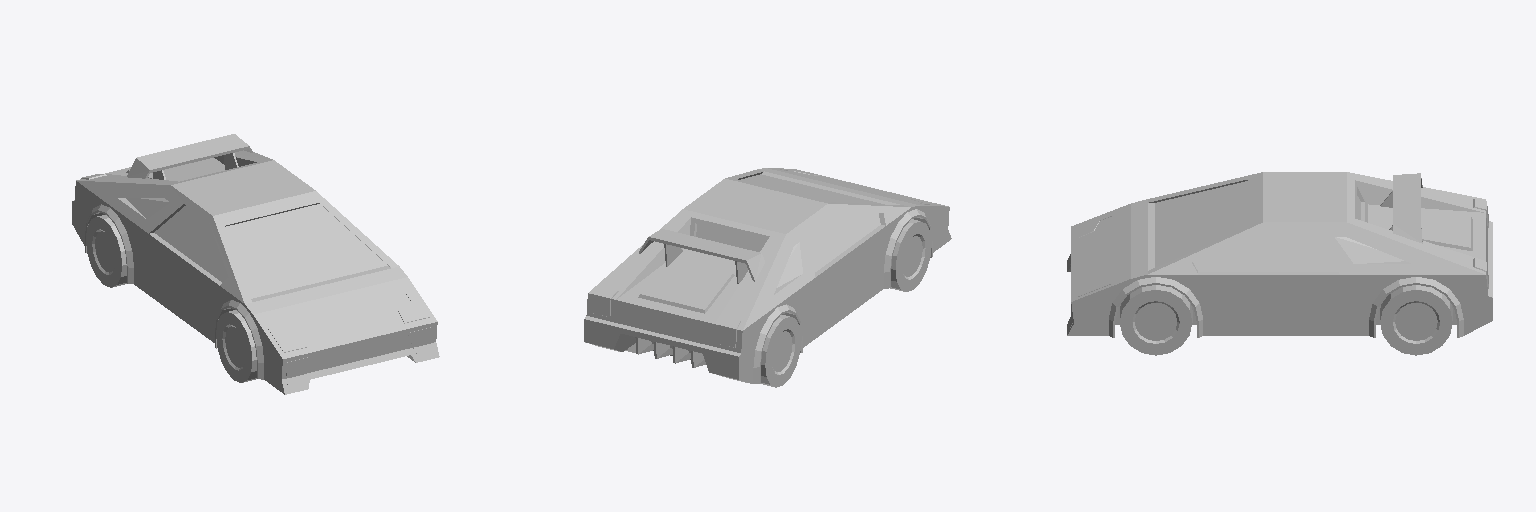
The model's file is car_sports_gt.obj.
3 renders of one model, left to right at view 1: azimuth 30°, elevation 25°; view 2: azimuth 150°, elevation 25°; view 3: azimuth 270°, elevation 25°, orthographic.
Visible parts, largest first — view 1: g car-lamba-sport-white_Cube.915_white, g car-lamba-sport-white_Cube.915_windows, g car-lamba-sport-white_Cube.915_tires, g car-lamba-sport-white_Cube.915_metal, g car-lamba-sport-white_Cube.915_lights, g car-lamba-sport-white_Cube.915_metal.black; view 2: g car-lamba-sport-white_Cube.915_white, g car-lamba-sport-white_Cube.915_windows, g car-lamba-sport-white_Cube.915_metal.black, g car-lamba-sport-white_Cube.915_tires, g car-lamba-sport-white_Cube.915_metal, g car-lamba-sport-white_Cube.915_lights.red; view 3: g car-lamba-sport-white_Cube.915_white, g car-lamba-sport-white_Cube.915_windows, g car-lamba-sport-white_Cube.915_tires, g car-lamba-sport-white_Cube.915_metal, g car-lamba-sport-white_Cube.915_metal.black.
Part boxes in pixels (x1,y1,x2,y2): g car-lamba-sport-white_Cube.915_white: (72, 134, 439, 394); g car-lamba-sport-white_Cube.915_windows: (154, 204, 387, 298); g car-lamba-sport-white_Cube.915_tires: (86, 215, 256, 382); g car-lamba-sport-white_Cube.915_metal: (95, 231, 433, 387); g car-lamba-sport-white_Cube.915_lights: (271, 293, 425, 351); g car-lamba-sport-white_Cube.915_metal.black: (126, 161, 415, 362); g car-lamba-sport-white_Cube.915_white: (584, 168, 951, 383); g car-lamba-sport-white_Cube.915_windows: (696, 174, 884, 272); g car-lamba-sport-white_Cube.915_metal.black: (614, 261, 734, 367); g car-lamba-sport-white_Cube.915_tires: (625, 219, 931, 387); g car-lamba-sport-white_Cube.915_metal: (772, 236, 922, 371); g car-lamba-sport-white_Cube.915_lights.red: (597, 288, 735, 346); g car-lamba-sport-white_Cube.915_white: (1067, 172, 1492, 337); g car-lamba-sport-white_Cube.915_windows: (1155, 181, 1360, 271); g car-lamba-sport-white_Cube.915_tires: (1120, 285, 1452, 355); g car-lamba-sport-white_Cube.915_metal: (1070, 256, 1437, 340); g car-lamba-sport-white_Cube.915_metal.black: (1068, 212, 1472, 271).
Size of the model in its own units: 0.954 by 0.6405 by 2.1.